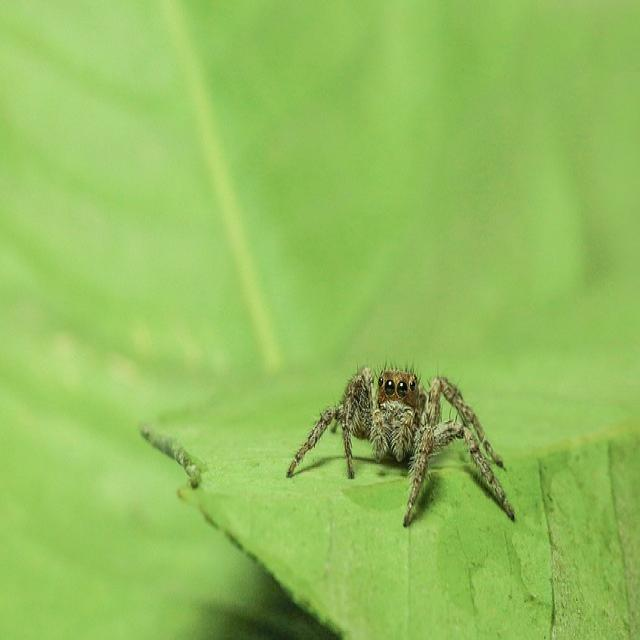spyder: (286, 368, 515, 525)
